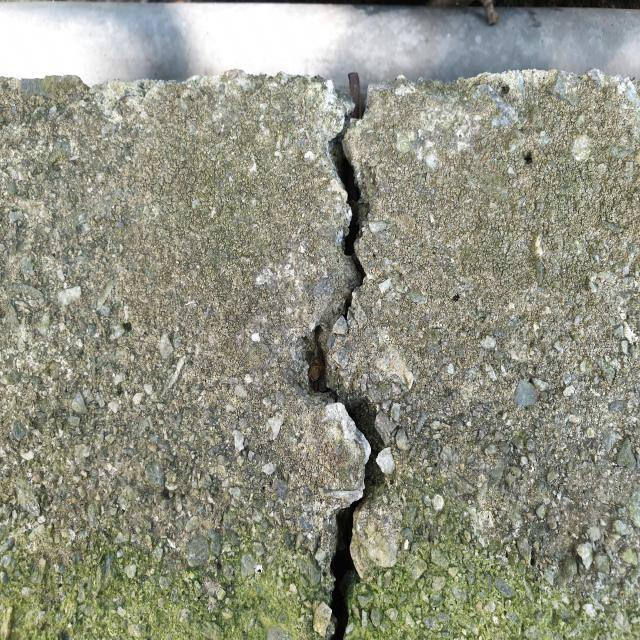SurfaceCrack: (258, 80, 430, 640)
